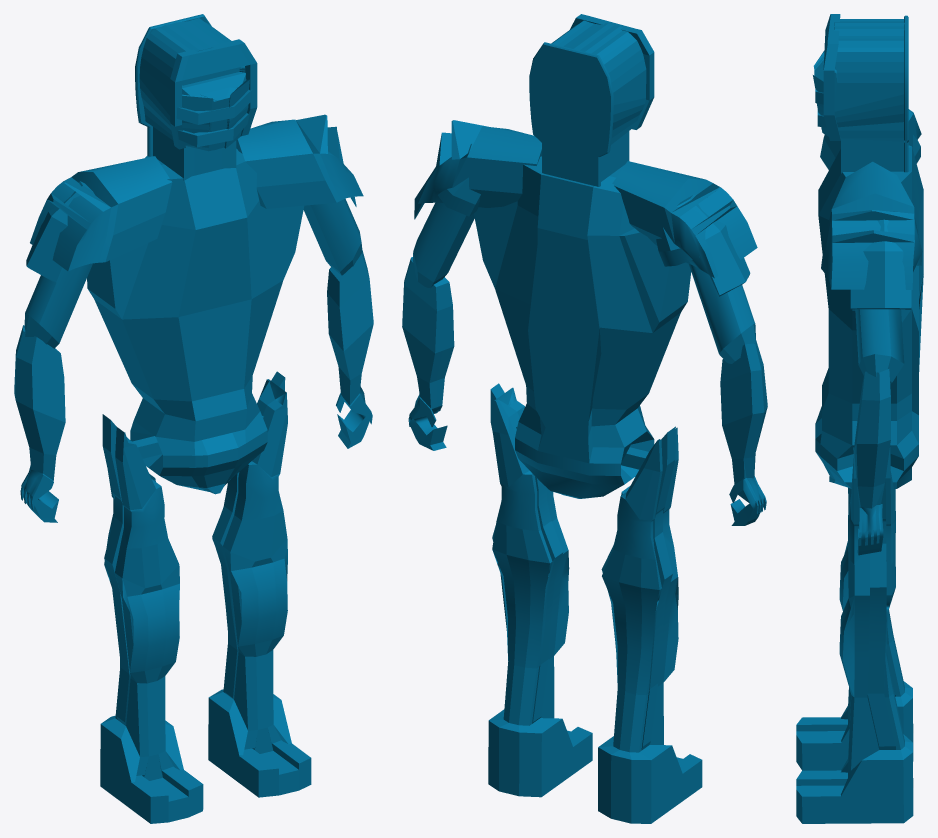
Rendered from Robot4.0.fbx.
3 views of the same model, side by side, from view 1: azimuth 30°, elevation 25°; view 2: azimuth 150°, elevation 25°; view 3: azimuth 270°, elevation 25° (orthographic).
Visible parts, largest first — view 1: pCube37; view 2: pCube37; view 3: pCube37.
Boxes of the visible parts, x1,y1,x2,y2 form: pCube37: [14, 14, 373, 823]; pCube37: [402, 14, 767, 823]; pCube37: [796, 14, 923, 823].
Bounding box in the file's own units: 4.64 × 9.33 × 1.43.
